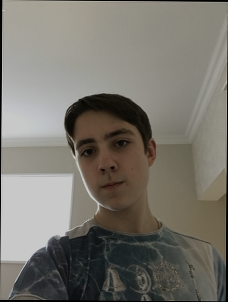without_mask: (72, 128, 149, 213)
